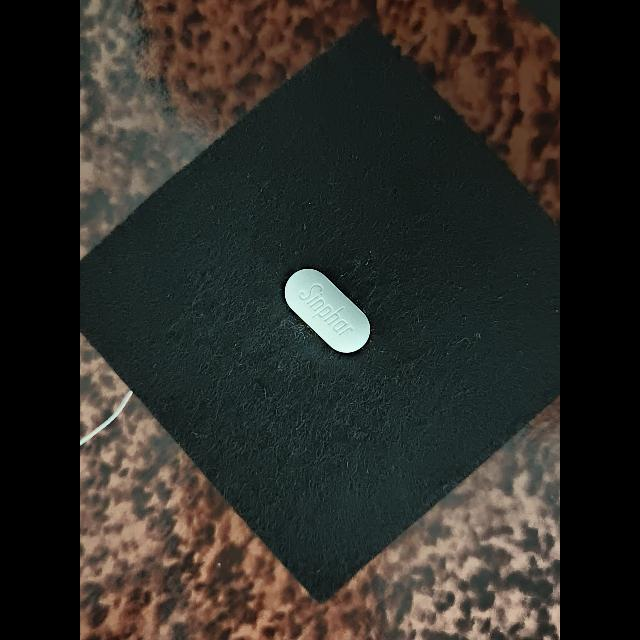Intact Pill: (284, 269, 370, 353)
